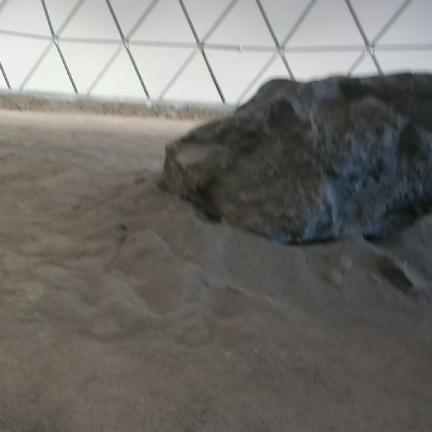Rock: (164, 74, 431, 243)
